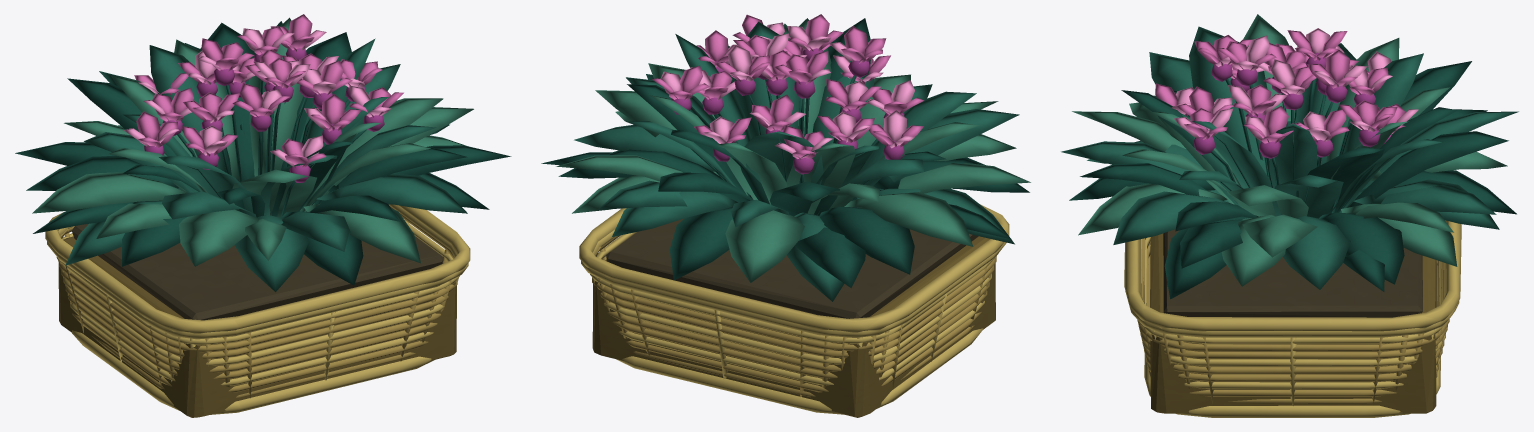
The model's file is 02_Flower_Basket_LOD1.fbx.
The picture shows the model from 3 angles, left to right: view 1: azimuth 30°, elevation 25°; view 2: azimuth 150°, elevation 25°; view 3: azimuth 270°, elevation 25°; orthographic projection. The views are drawn at different scales.
Parts seen in each view (by area): view 1: 02_Flower_Basket_LOD1_Mesh; view 2: 02_Flower_Basket_LOD1_Mesh; view 3: 02_Flower_Basket_LOD1_Mesh.
Part boxes in pixels (x1,y1,x2,y2): 02_Flower_Basket_LOD1_Mesh: (15, 14, 511, 417); 02_Flower_Basket_LOD1_Mesh: (541, 14, 1030, 417); 02_Flower_Basket_LOD1_Mesh: (1061, 14, 1518, 417).
Bounding box in the file's own units: 27.54 × 17.98 × 24.57.
1 material, 1 textured.
